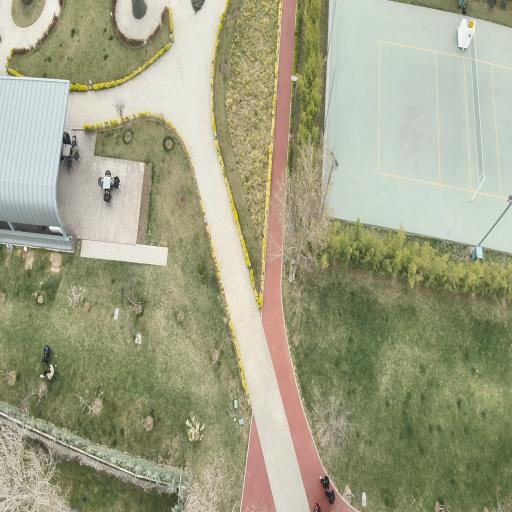person: (63, 131, 73, 155), (40, 365, 54, 379), (41, 345, 51, 363), (325, 490, 335, 504), (320, 475, 329, 489), (113, 176, 120, 189), (104, 190, 111, 202), (314, 503, 320, 511)
